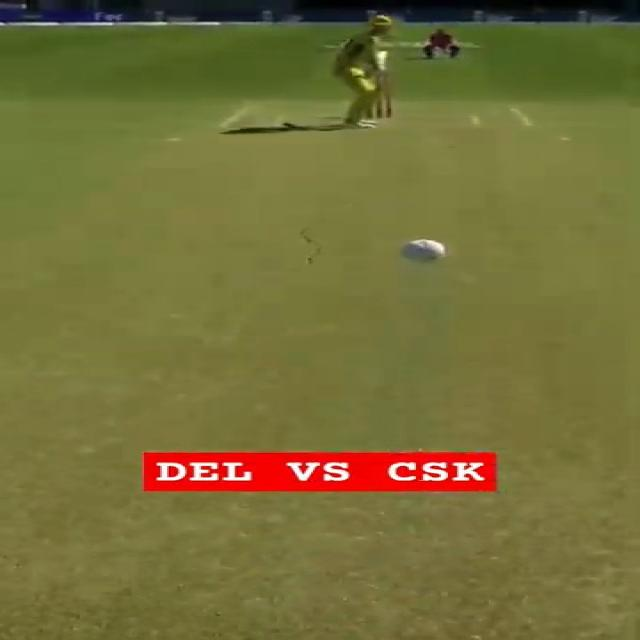ball: (398, 237, 448, 267)
